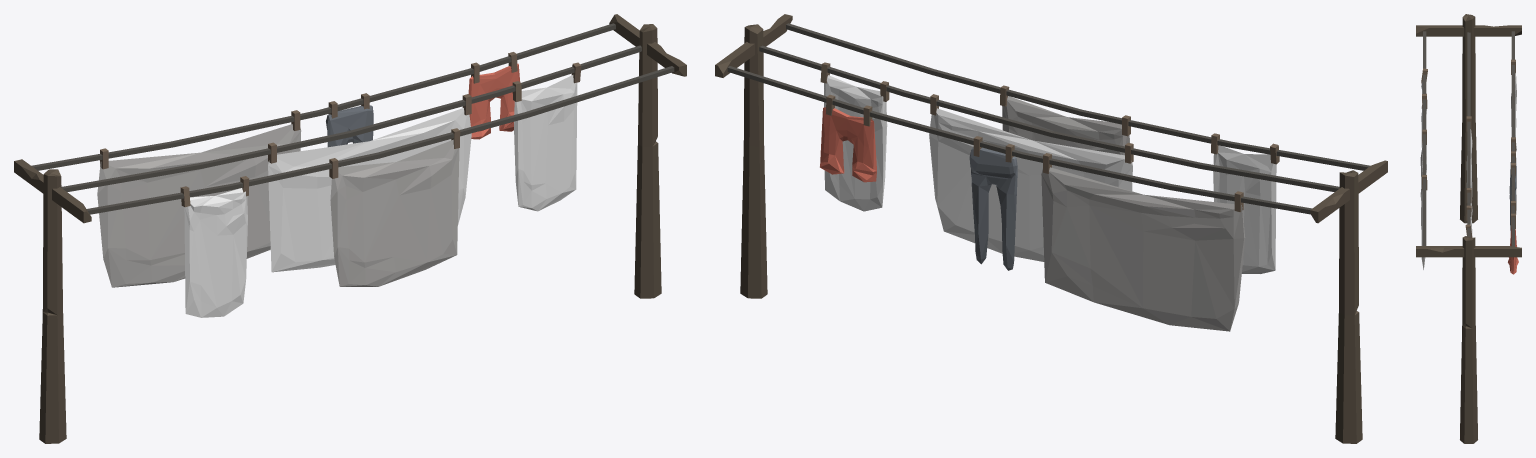
File: SM_Prop_WashingLine_01.fbx
3 views of the same model, side by side, from view 1: azimuth 30°, elevation 25°; view 2: azimuth 150°, elevation 25°; view 3: azimuth 270°, elevation 25° (orthographic). The views are drawn at different scales.
Visible parts, largest first — view 1: SM_Prop_WashingLine_01; view 2: SM_Prop_WashingLine_01; view 3: SM_Prop_WashingLine_01.
Part boxes in pixels (x1=…): SM_Prop_WashingLine_01: x1=14, y1=14, x2=686, y2=443; SM_Prop_WashingLine_01: x1=715, y1=14, x2=1387, y2=443; SM_Prop_WashingLine_01: x1=1416, y1=14, x2=1521, y2=443.
Bounding box in the file's own units: 549 × 227 × 107.
